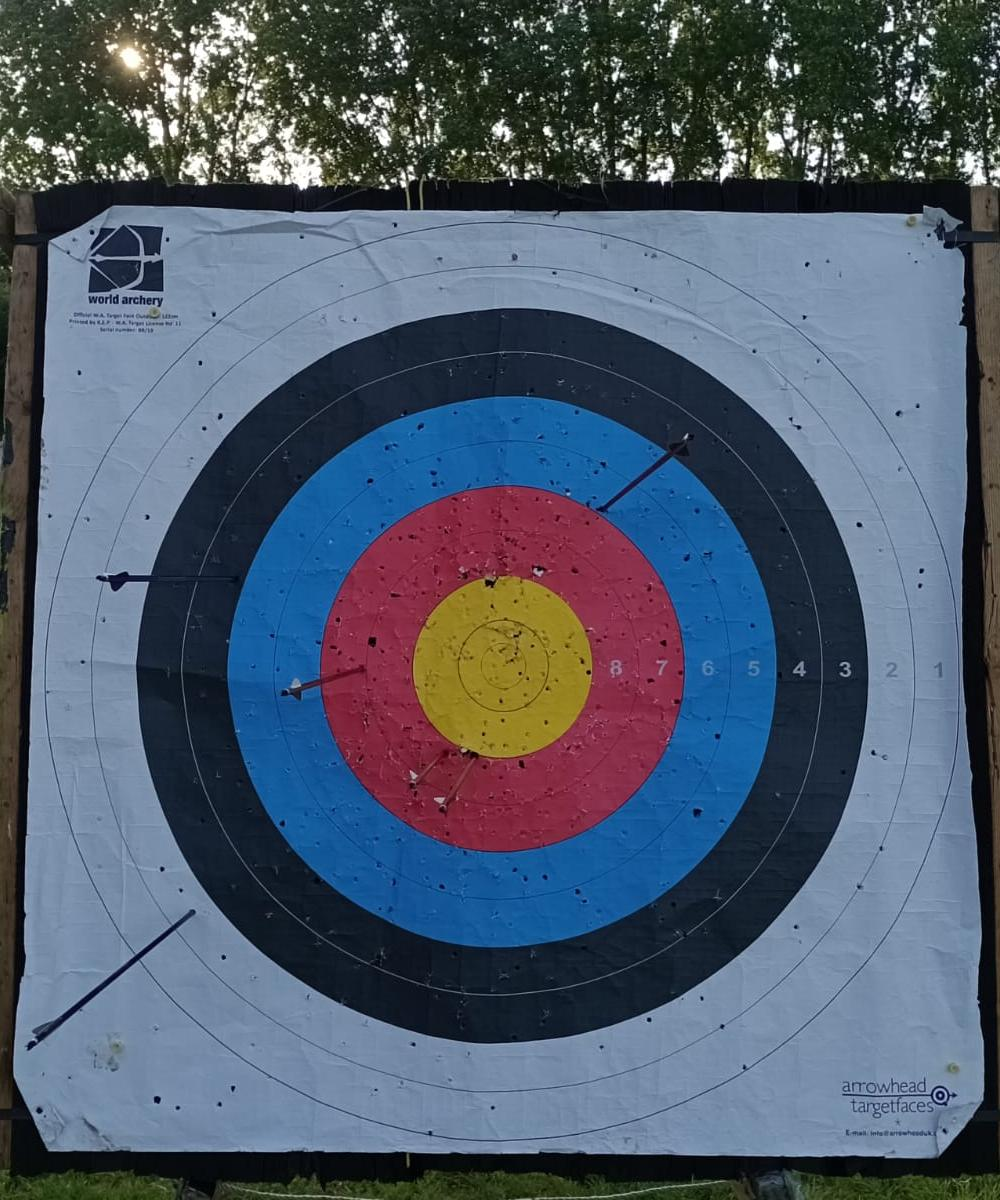1-Ring: (38, 214, 968, 1151)
10-Ring: (456, 618, 551, 715)
2-Ring: (93, 268, 914, 1092)
3-Ring: (139, 310, 867, 1043)
4-Ring: (182, 354, 823, 995)
5-Ring: (232, 398, 775, 945)
6-Ring: (182, 349, 824, 991)
7-Ring: (272, 438, 734, 901)
8-Ring: (361, 530, 643, 811)
9-Ring: (409, 574, 596, 762)
Arrow: (20, 906, 204, 1059), (590, 430, 699, 512), (278, 650, 364, 708), (96, 563, 238, 592), (430, 752, 476, 815), (402, 750, 455, 792)
